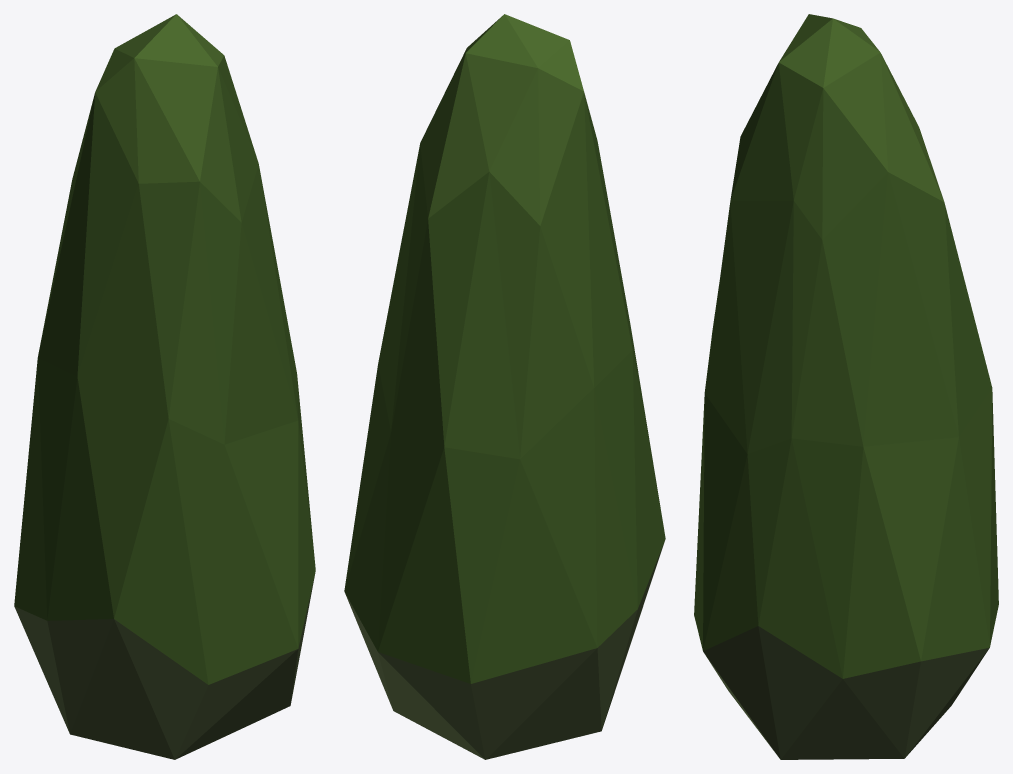
File: bush2.fbx
The picture shows the model from 3 angles, left to right: view 1: azimuth 30°, elevation 25°; view 2: azimuth 150°, elevation 25°; view 3: azimuth 270°, elevation 25°; orthographic projection.
Visible parts, largest first — view 1: Icosphere; view 2: Icosphere; view 3: Icosphere.
Part boxes in pixels (x1,y1,x2,y2): Icosphere: (14,14,315,759); Icosphere: (344,14,665,759); Icosphere: (694,14,998,759).
Size of the model in its own units: 212 by 573 by 215.
